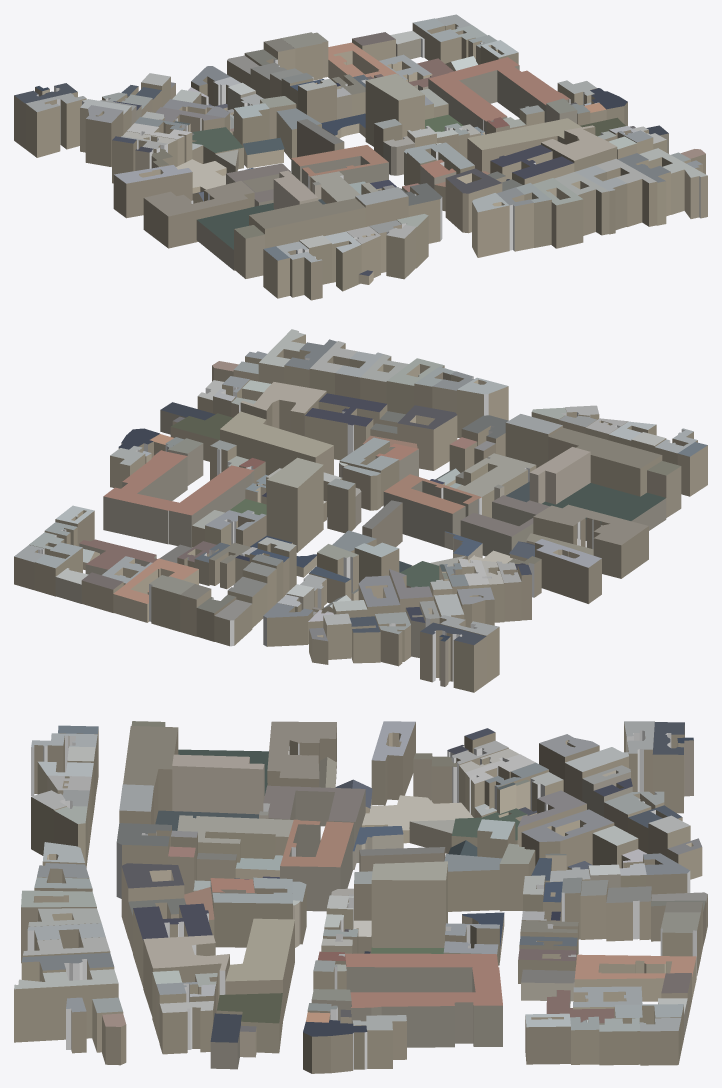
3 views of the same model, one above another, from view 1: azimuth 30°, elevation 25°; view 2: azimuth 150°, elevation 25°; view 3: azimuth 270°, elevation 25° (orthographic). The views are drawn at different scales.
Visible parts, largest first — view 1: tuile; view 2: tuile; view 3: tuile.
Part boxes in pixels (box(x1,y1,x2,y2)): tuile: box(14, 14, 707, 300); tuile: box(14, 329, 707, 692); tuile: box(14, 721, 707, 1073).
Bounding box in the file's own units: 274 × 38.44 × 268.
